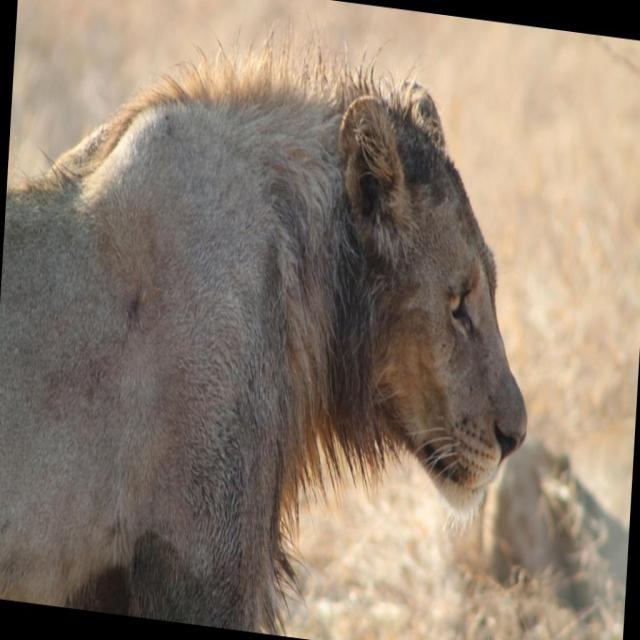Lion: (0, 0, 547, 639)
